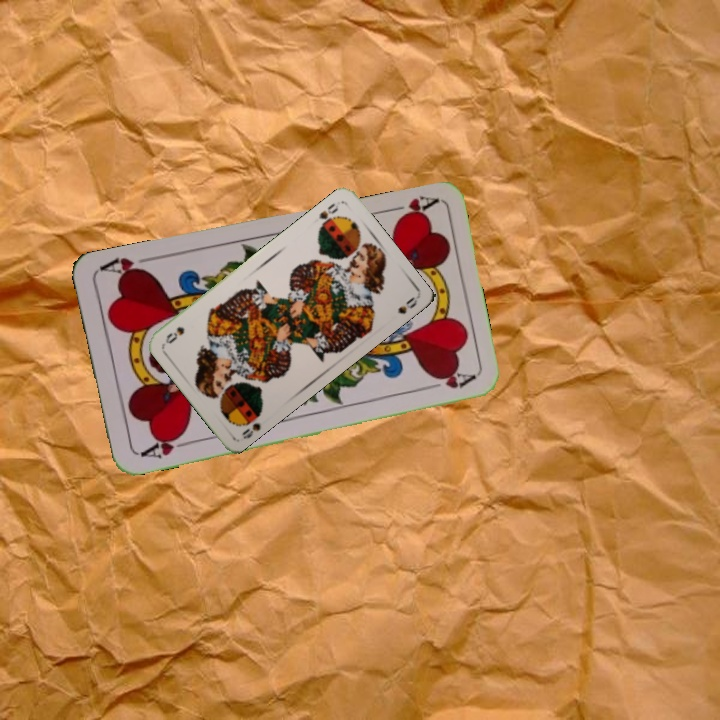HA: (380, 191, 439, 225), (133, 429, 192, 461)
SO: (238, 406, 265, 442), (314, 199, 341, 231)
